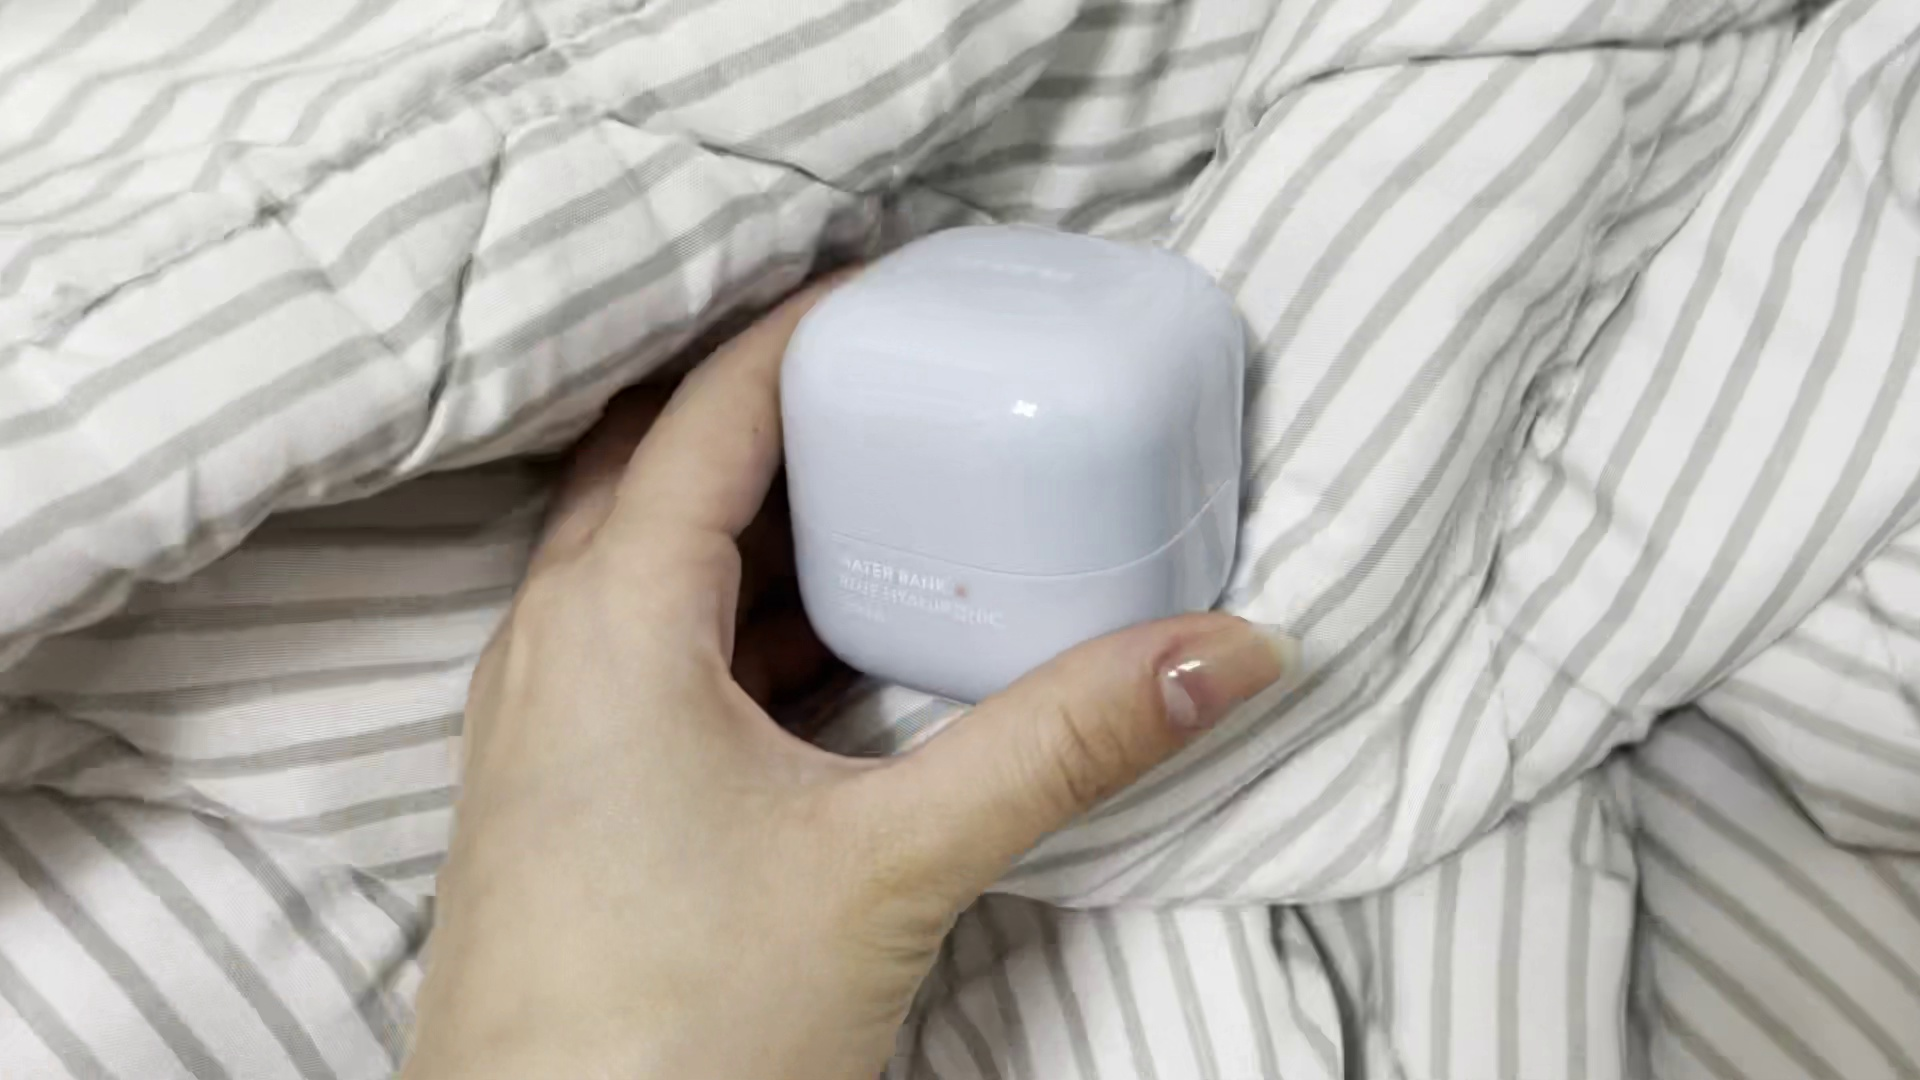cream: (781, 219, 1247, 702)
